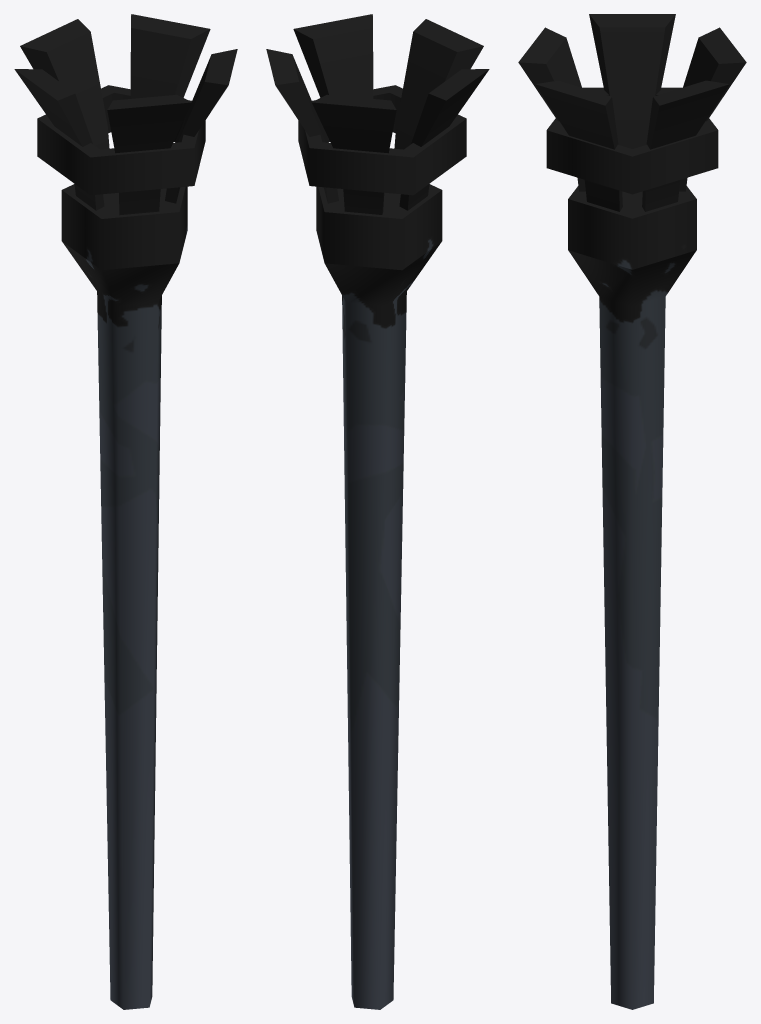
The model's file is Torch.fbx.
The picture shows the model from 3 angles, left to right: view 1: azimuth 30°, elevation 25°; view 2: azimuth 150°, elevation 25°; view 3: azimuth 270°, elevation 25°; orthographic projection.
Parts seen in each view (by area): view 1: Torch1; view 2: Torch1; view 3: Torch1.
Part boxes in pixels (<box>): Torch1: <box>14,14,237,1009</box>; Torch1: <box>266,14,489,1009</box>; Torch1: <box>518,14,746,1009</box>.
Bounding box in the file's own units: 27.75 × 132 × 29.18.
